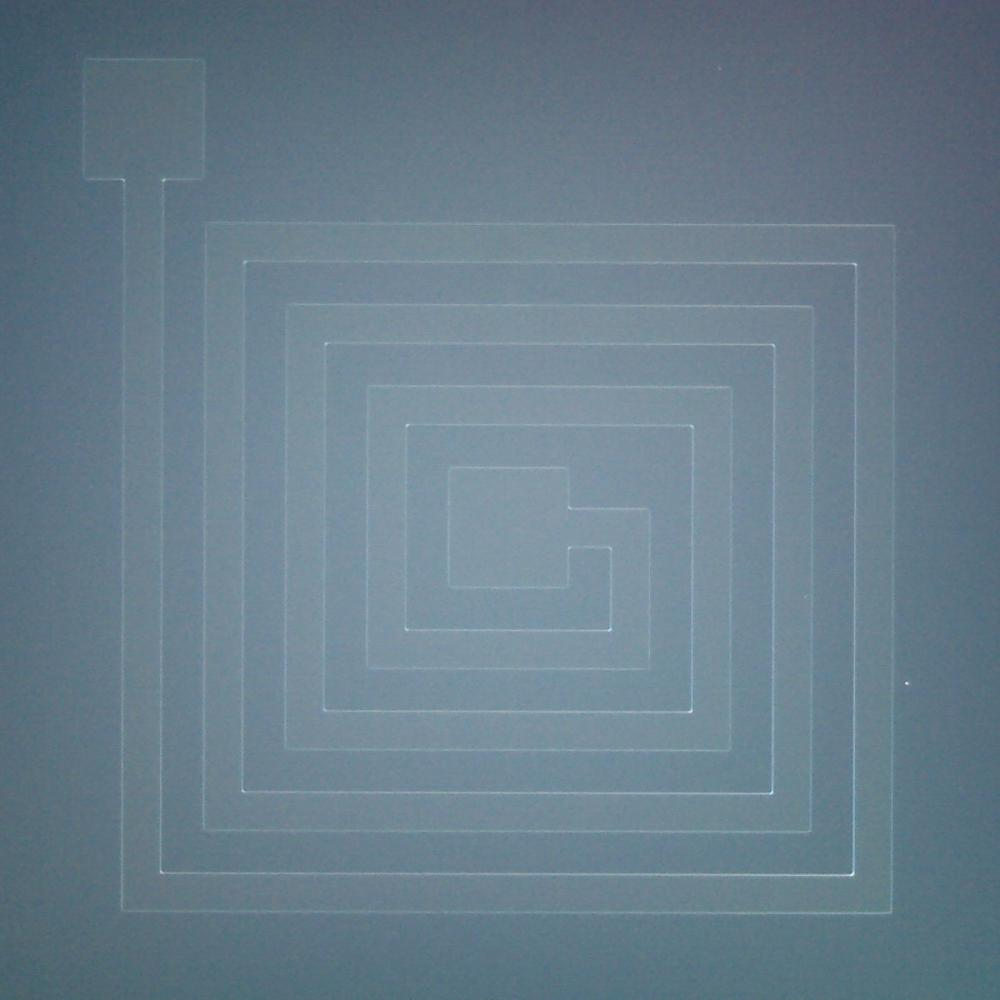dot: (904, 681, 908, 685)
